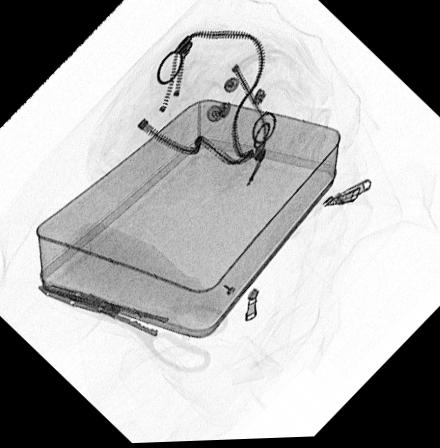Scissors: (34, 282, 230, 376)
